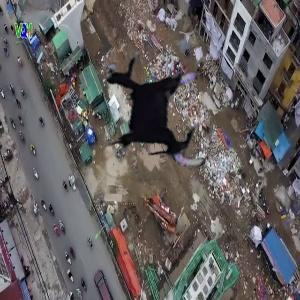drone: (88, 38, 234, 184)
